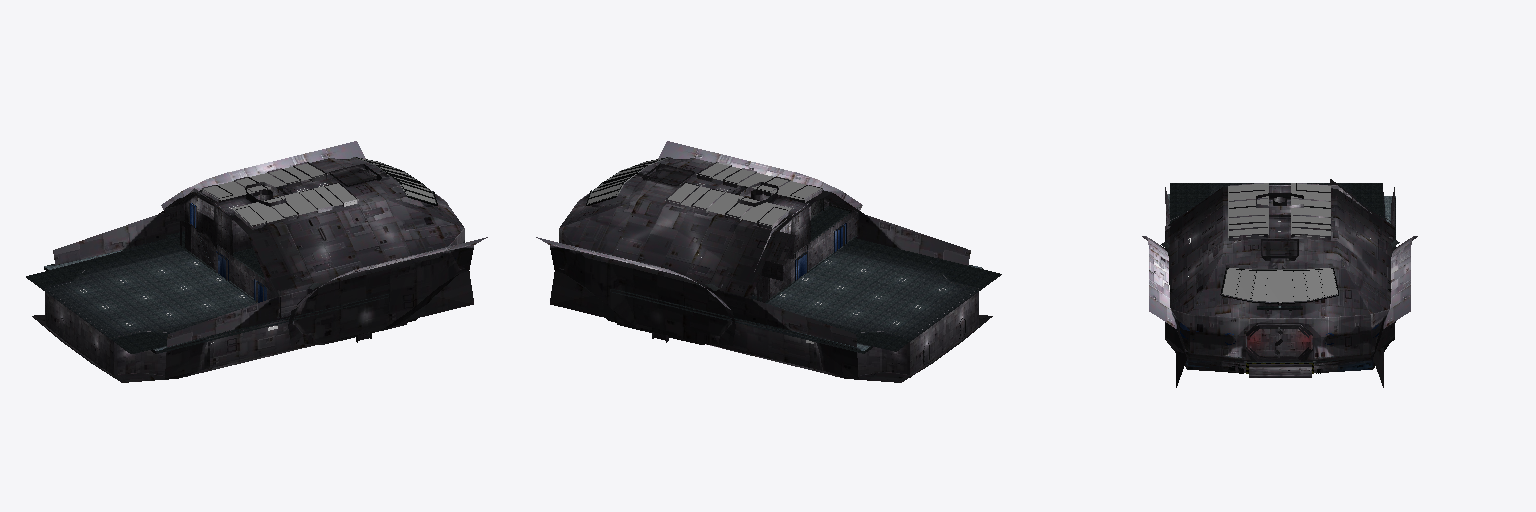
3 renders of one model, left to right at view 1: azimuth 30°, elevation 25°; view 2: azimuth 150°, elevation 25°; view 3: azimuth 270°, elevation 25°, orthographic.
Parts seen in each view (by area): view 1: body, walkways, frontglass, barriers; view 2: body, walkways, frontglass, barriers; view 3: body, frontglass, walkways, barriers.
Boxes of the visible parts, x1=… form: body: x1=32, y1=141, x2=487, y2=382; walkways: x1=26, y1=195, x2=389, y2=353; frontglass: x1=201, y1=158, x2=435, y2=226; barriers: x1=308, y1=157, x2=437, y2=298; body: x1=536, y1=141, x2=992, y2=382; walkways: x1=610, y1=206, x2=1001, y2=353; frontglass: x1=587, y1=158, x2=821, y2=226; barriers: x1=586, y1=157, x2=719, y2=300; body: x1=1142, y1=179, x2=1417, y2=387; frontglass: x1=1222, y1=183, x2=1337, y2=302; walkways: x1=1167, y1=183, x2=1395, y2=362; barriers: x1=1161, y1=240, x2=1399, y2=373.
Bounding box in the file's own units: 208 × 67.5 × 139.
19 materials, 14 textured.